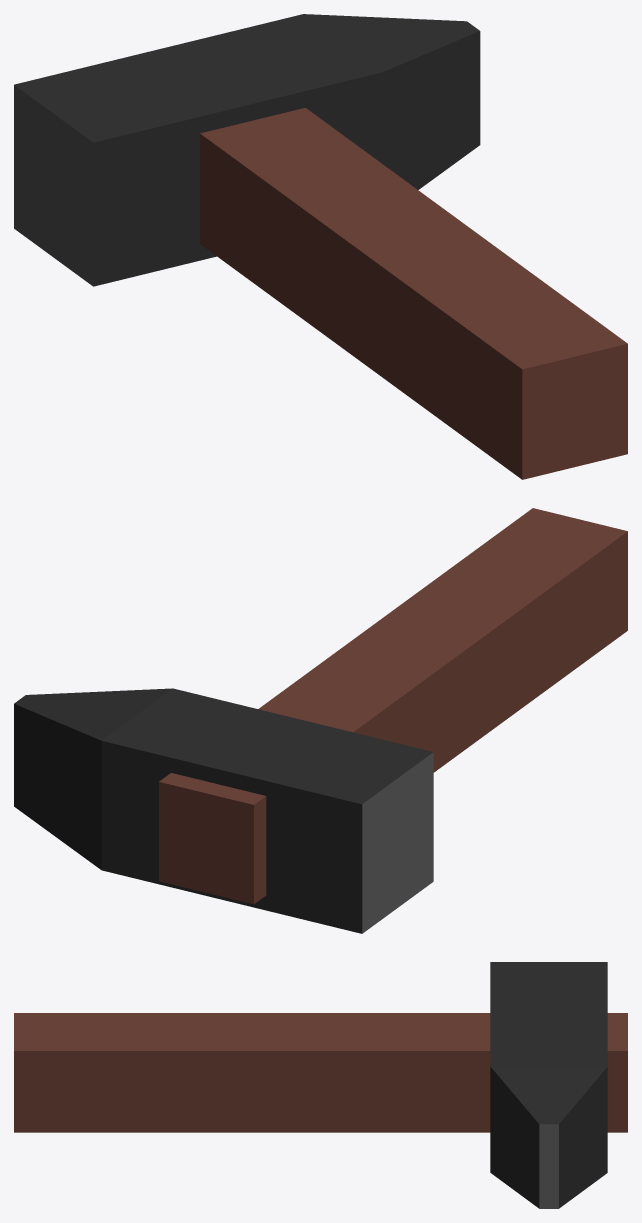
The model's file is hummer_2.fbx.
3 renders of one model, top to bottom at view 1: azimuth 30°, elevation 25°; view 2: azimuth 150°, elevation 25°; view 3: azimuth 270°, elevation 25°, orthographic. The views are drawn at different scales.
Parts seen in each view (by area): view 1: hummer; view 2: hummer; view 3: hummer.
Boxes of the visible parts, x1,y1,x2,y2 form: hummer: (14, 14, 627, 479); hummer: (14, 508, 627, 933); hummer: (14, 962, 627, 1208).
Bounding box in the file's own units: 23.04 × 7.55 × 39.49.
